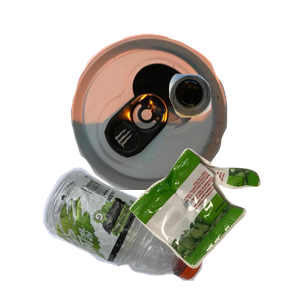glass: (166, 71, 300, 181)
metal: (68, 31, 288, 211)
plastic: (40, 165, 235, 300)
trash: (127, 146, 300, 300)
